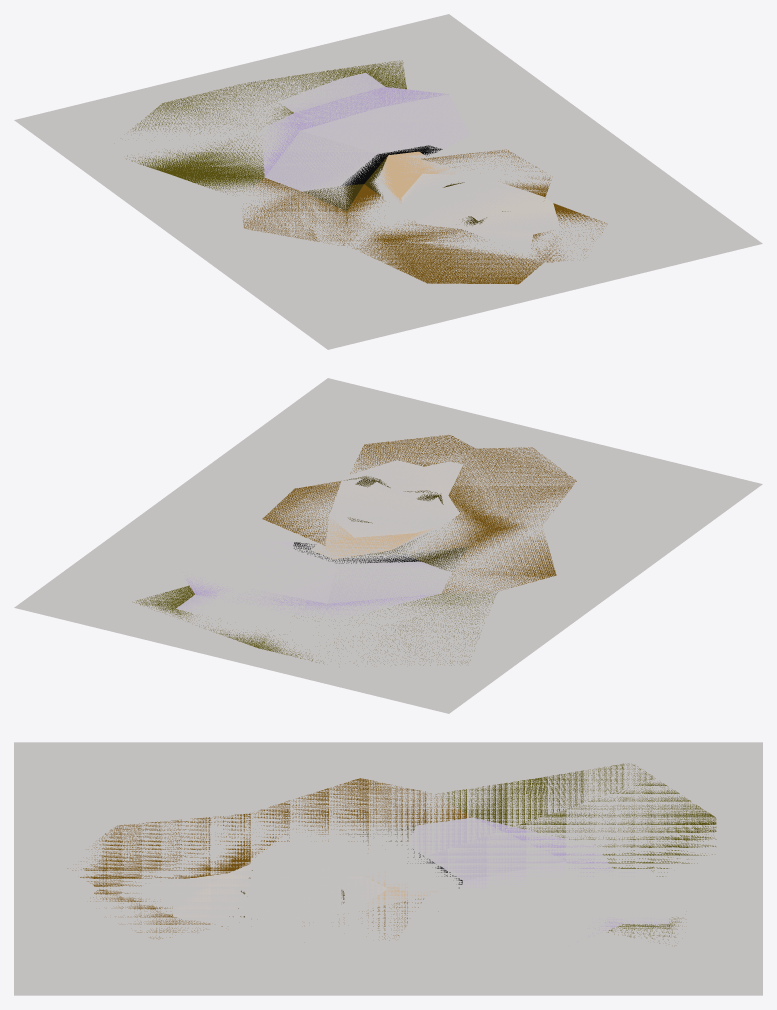
Rendered from inv_picture.obj.
3 views of the same model, one above another, from view 1: azimuth 30°, elevation 25°; view 2: azimuth 150°, elevation 25°; view 3: azimuth 270°, elevation 25° (orthographic). The views are drawn at different scales.
Bounding box in the file's own units: 0.5 × 0 × 0.625.
